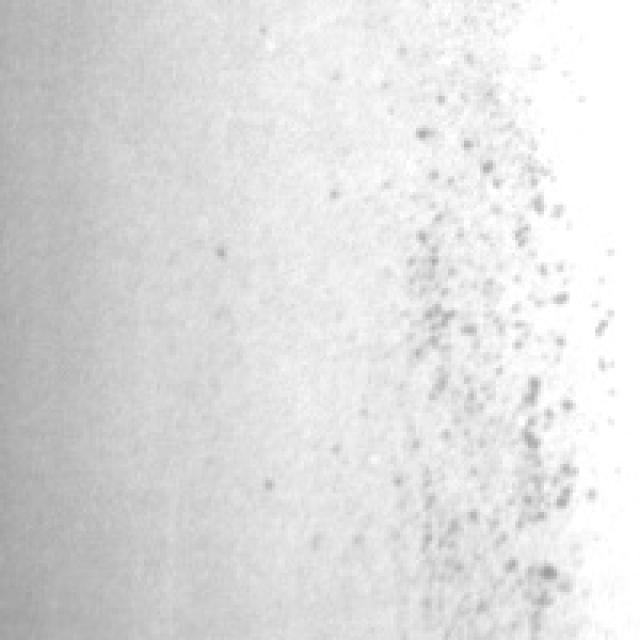pitted_surface: (374, 22, 614, 637)
